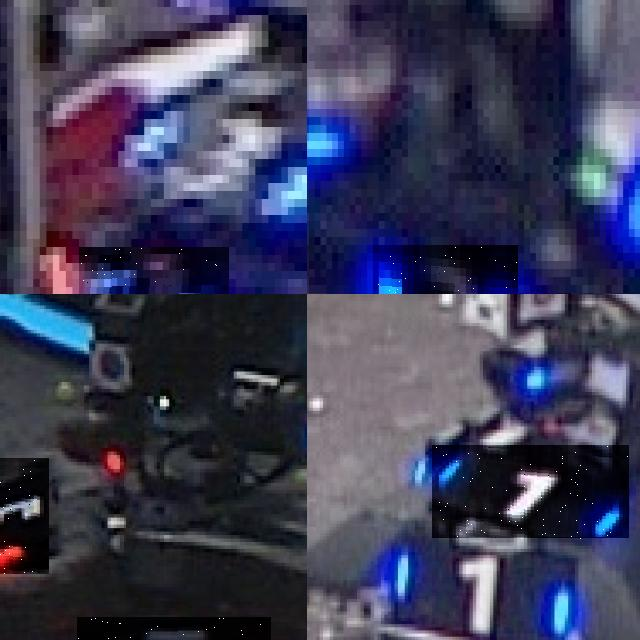B1: (432, 446, 629, 540), (387, 549, 578, 640)
B3: (372, 245, 518, 294), (79, 247, 229, 294)
R5: (0, 458, 49, 573)
